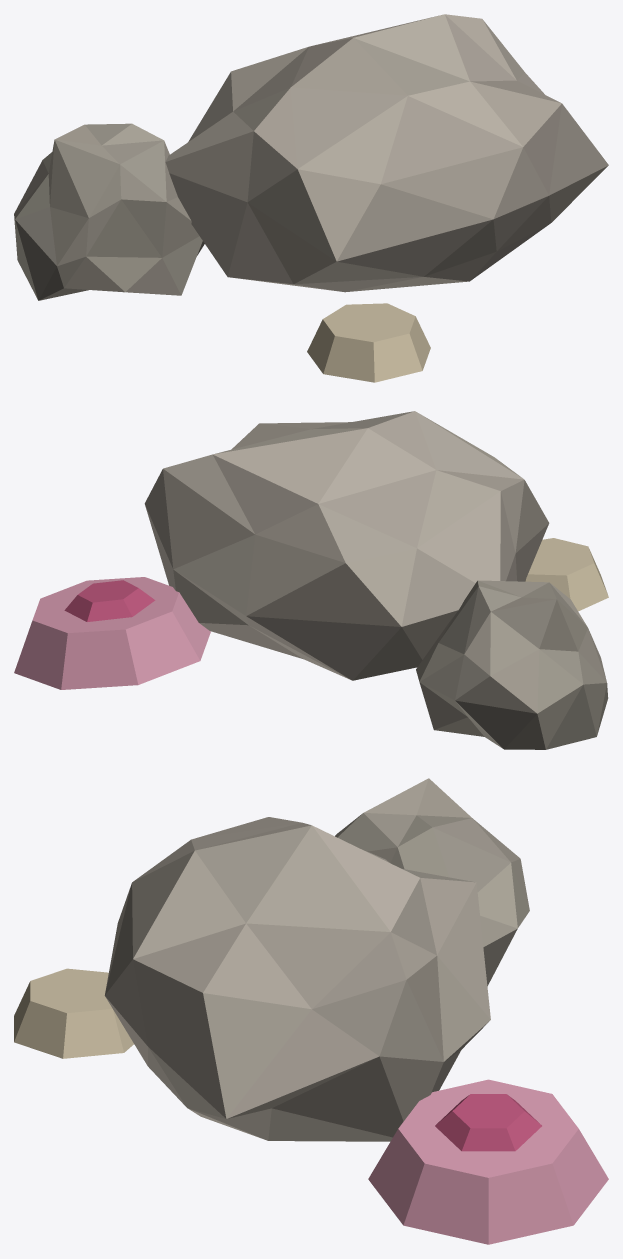
File: Scatter_ShellRock.fbx
3 views of the same model, one above another, from view 1: azimuth 30°, elevation 25°; view 2: azimuth 150°, elevation 25°; view 3: azimuth 270°, elevation 25° (orthographic). The views are drawn at different scales.
Parts seen in each view (by area): view 1: ShellRock; view 2: ShellRock; view 3: ShellRock.
Part boxes in pixels (x1,y1,x2,y2): ShellRock: (14, 14, 608, 382); ShellRock: (14, 411, 608, 749); ShellRock: (14, 778, 608, 1244).
Bounding box in the file's own units: 6.07 × 2.44 × 4.94.
